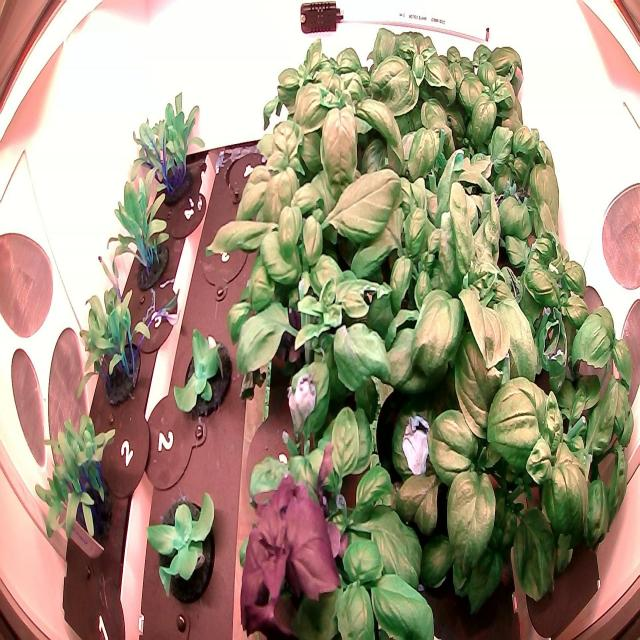empty_pod: (196, 214, 250, 300), (222, 145, 276, 206)
young: (140, 485, 222, 614), (170, 320, 238, 428)
